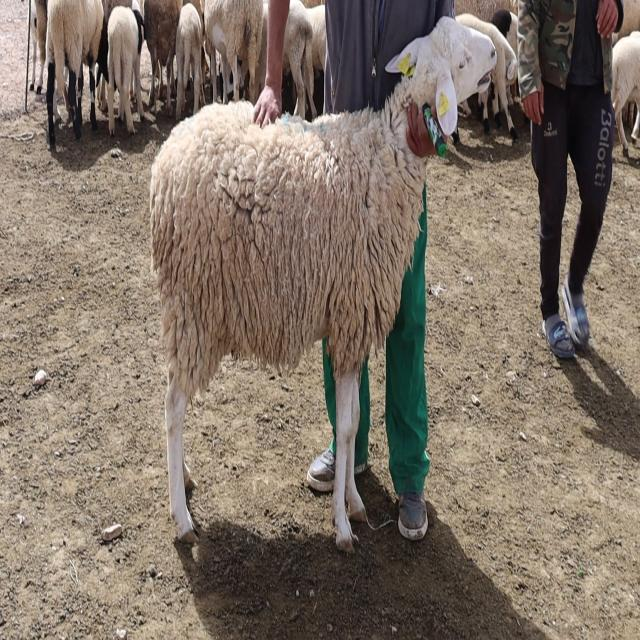Score_2: (150, 17, 499, 551)
